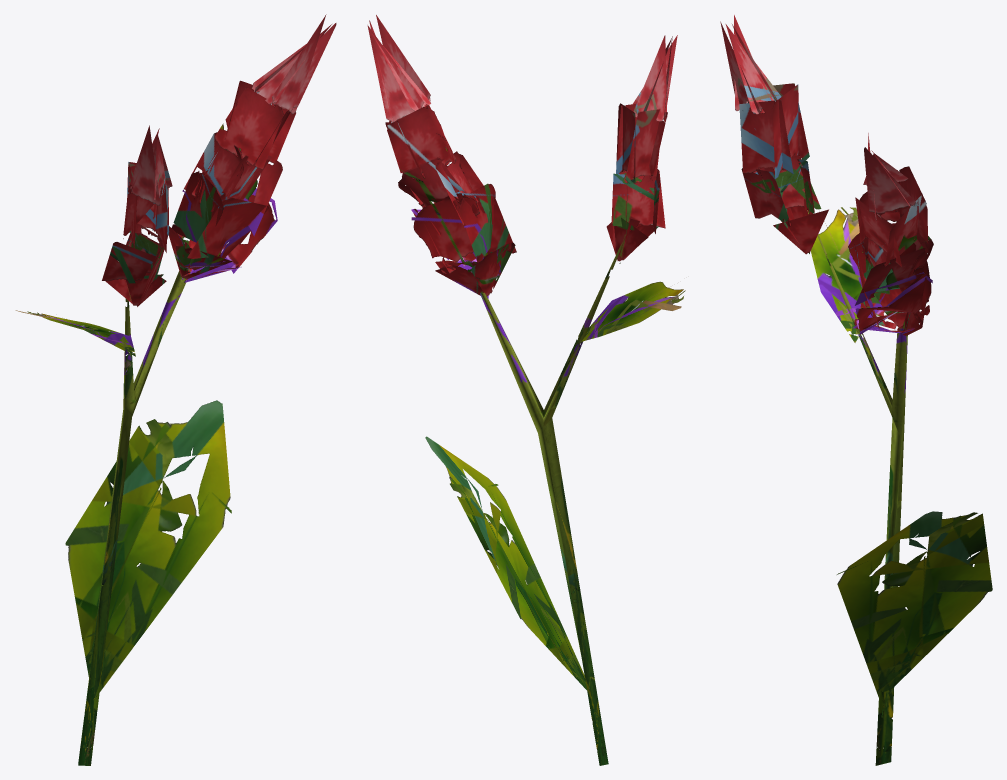
Rendered from flowers1.glb.
3 renders of one model, left to right at view 1: azimuth 30°, elevation 25°; view 2: azimuth 150°, elevation 25°; view 3: azimuth 270°, elevation 25°, orthographic. The views are drawn at different scales.
Visible parts, largest first — view 1: flowers.001; view 2: flowers.001; view 3: flowers.001.
Part boxes in pixels (x1,y1,x2,y2): flowers.001: [15, 14, 336, 765]; flowers.001: [367, 15, 685, 765]; flowers.001: [720, 15, 992, 765].
Size of the model in its own units: 0.2555 by 0.5311 by 0.1734.
Materials: 1 (1 with a texture image).
